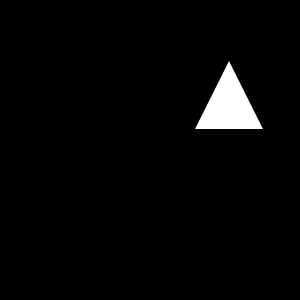triangle: (195, 61, 263, 129)
